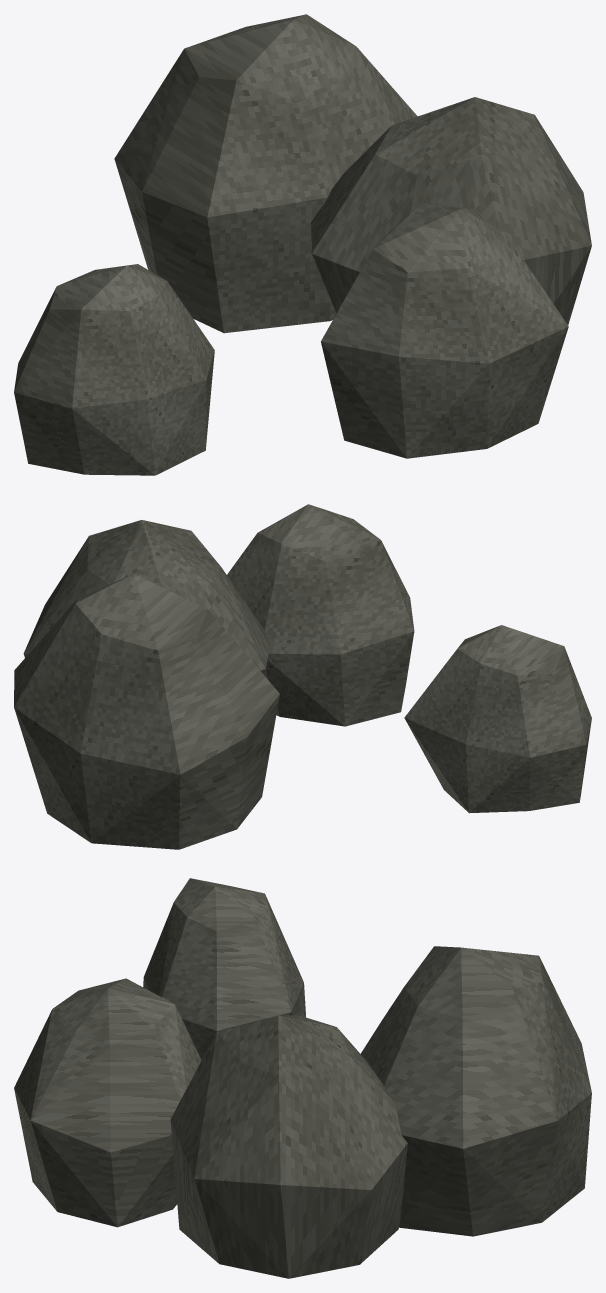
The model's file is env_rocks_09_weathered_cluster.glb.
3 views of the same model, one above another, from view 1: azimuth 30°, elevation 25°; view 2: azimuth 150°, elevation 25°; view 3: azimuth 270°, elevation 25° (orthographic). The views are drawn at different scales.
Visible parts, largest first — view 1: solid; view 2: solid; view 3: solid.
Boxes of the visible parts, x1=… form: solid: x1=14, y1=14, x2=591, y2=475; solid: x1=14, y1=504, x2=591, y2=849; solid: x1=14, y1=878, x2=591, y2=1278.
Bounding box in the file's own units: 1.11 × 0.4593 × 0.9685.
Materials: 1 (1 with a texture image).
